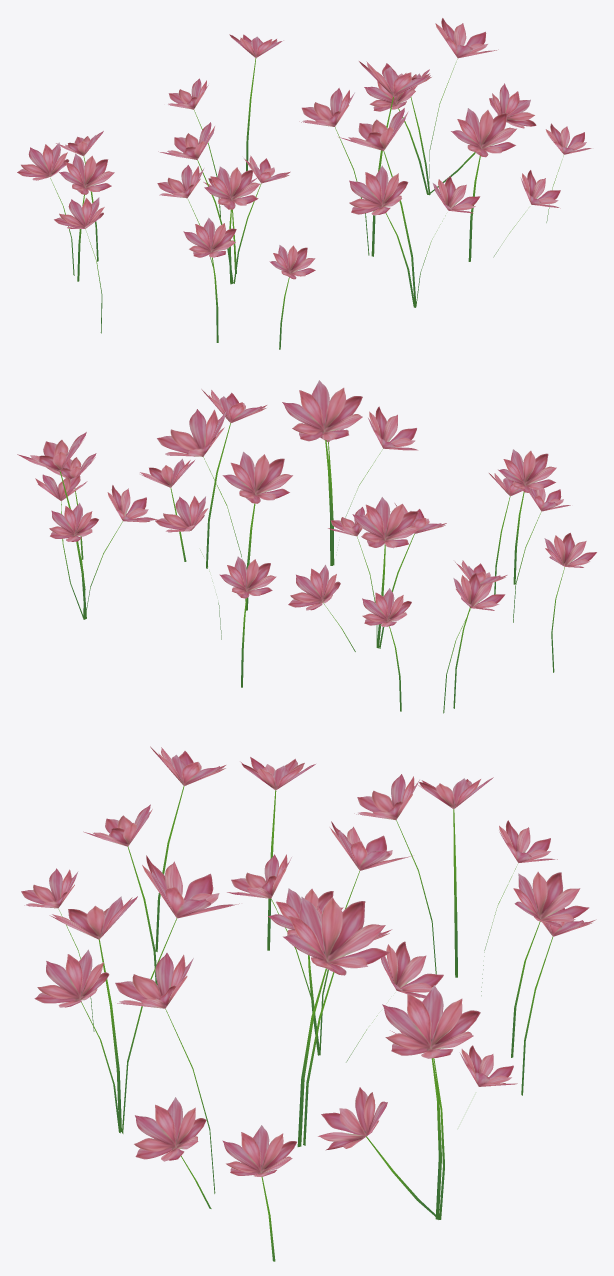
The model's file is SM_FlowerGroup_07.fbx.
3 views of the same model, one above another, from view 1: azimuth 30°, elevation 25°; view 2: azimuth 150°, elevation 25°; view 3: azimuth 270°, elevation 25° (orthographic). The views are drawn at different scales.
Parts seen in each view (by area): view 1: SM_FlowerGroup_07; view 2: SM_FlowerGroup_07; view 3: SM_FlowerGroup_07.
Boxes of the visible parts, x1,y1,x2,y2 form: SM_FlowerGroup_07: (17, 18, 591, 349); SM_FlowerGroup_07: (17, 380, 596, 713); SM_FlowerGroup_07: (21, 746, 596, 1261).
Size of the model in its own units: 308 by 103 by 206.
